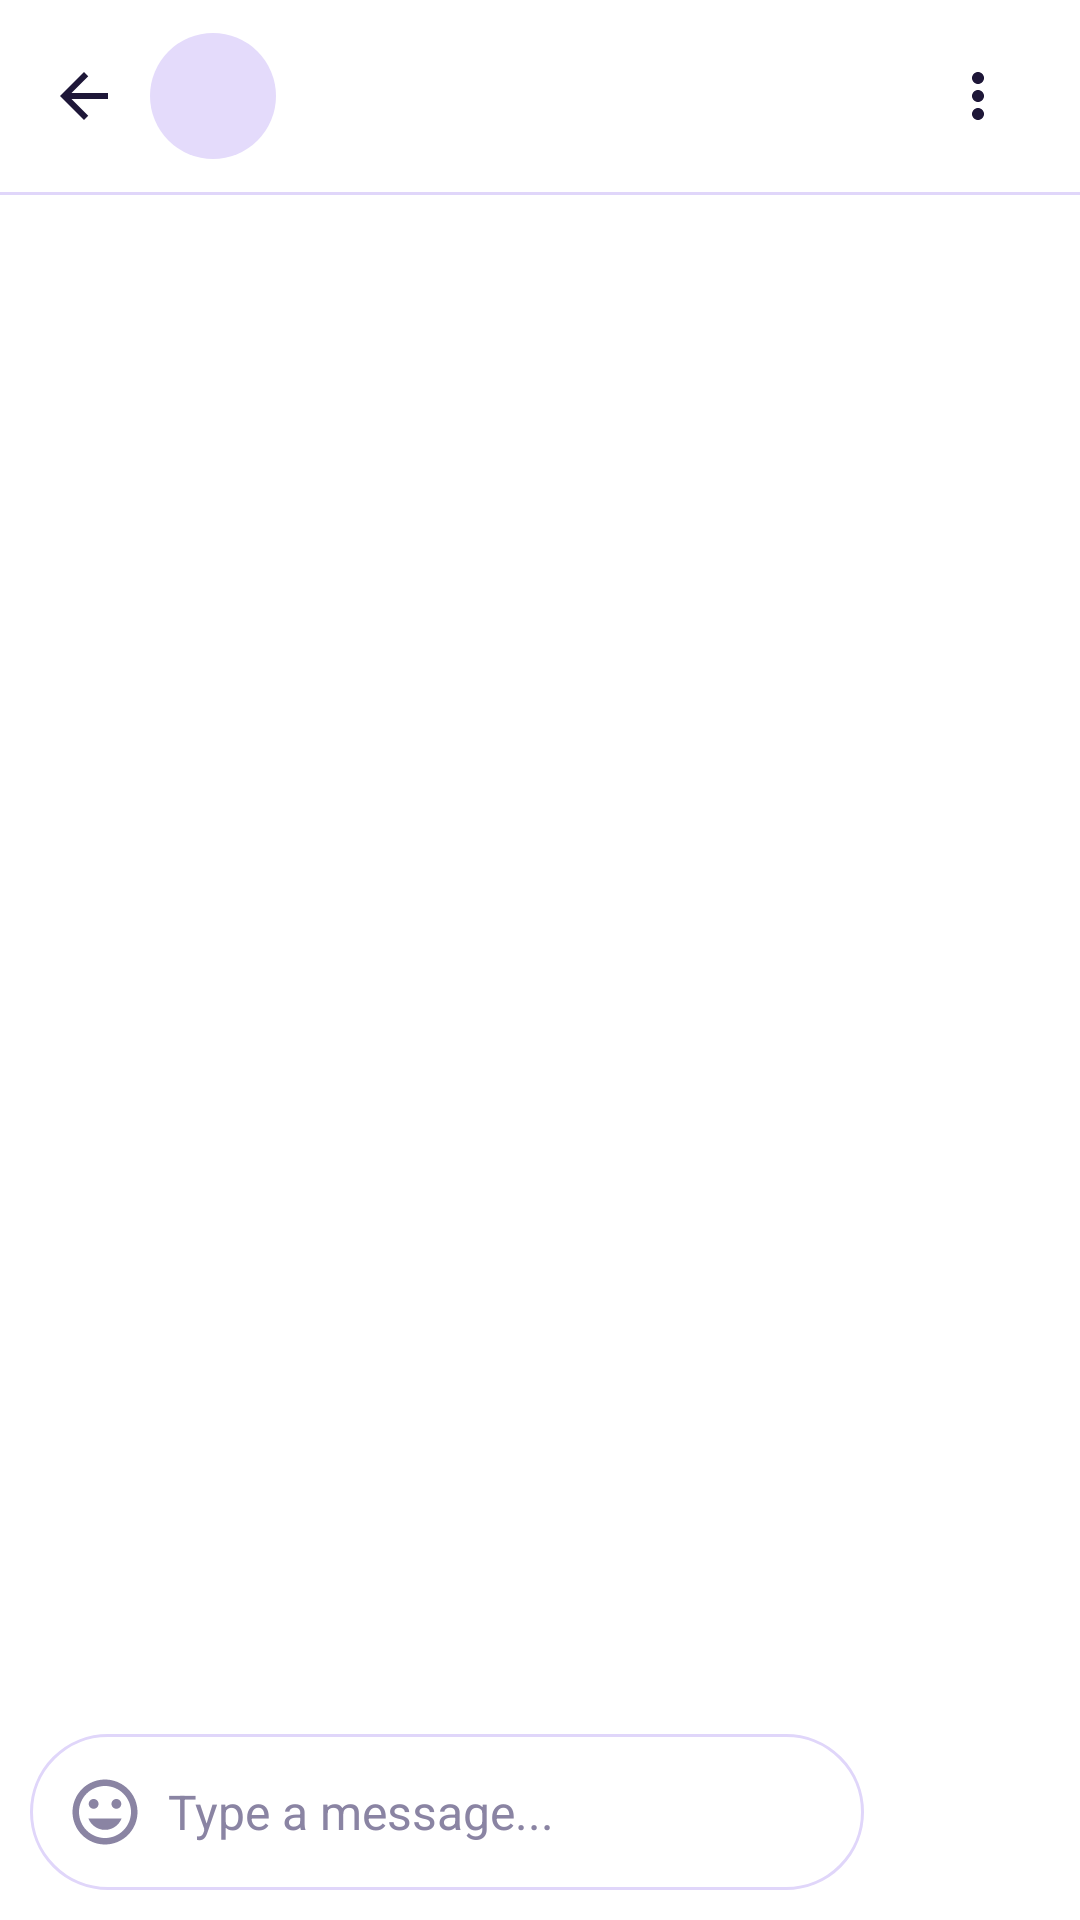

Named icons in this screenshot (1080*1920) and their bounding boxes, (x1, y1, x2, y2):
back: (60, 72, 108, 120)
emoji: (72, 1779, 138, 1845)
more: (972, 72, 984, 120)
